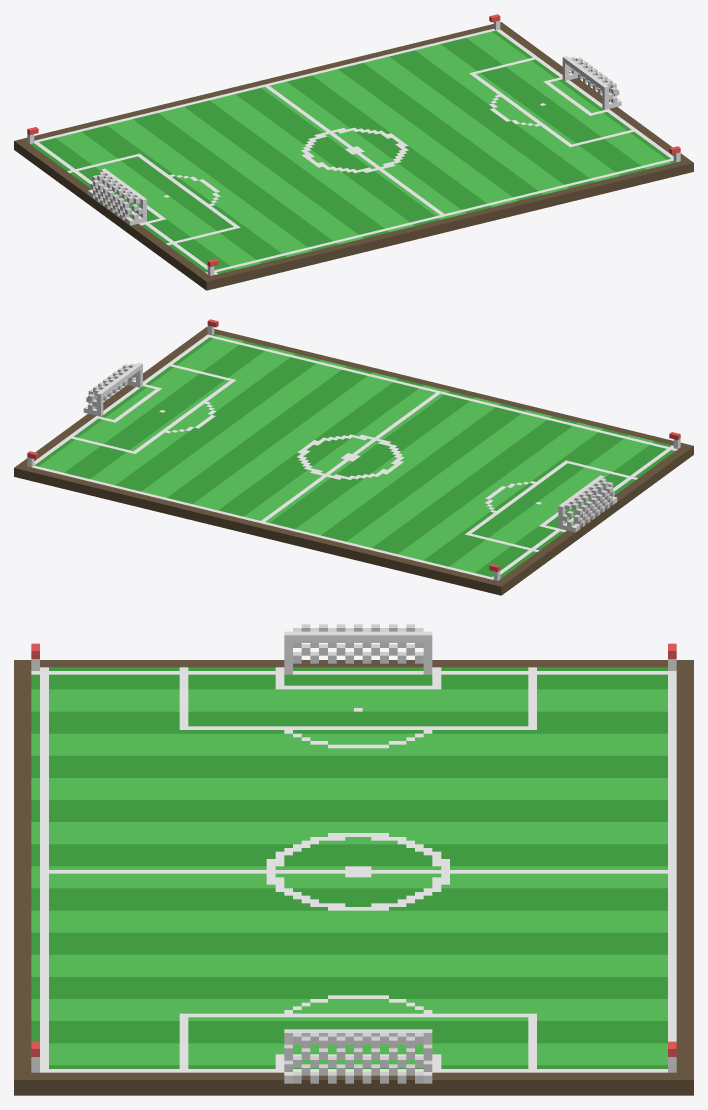
File: canchabase.fbx
The picture shows the model from 3 angles, top to bottom: view 1: azimuth 30°, elevation 25°; view 2: azimuth 150°, elevation 25°; view 3: azimuth 270°, elevation 25°; orthographic projection. The views are drawn at different scales.
Visible parts, largest first — view 1: Voxel_GrassDark, Voxel_GrassLight, Voxel_Border, Voxel_Line, Voxel_Net, Voxel_Goal; view 2: Voxel_GrassLight, Voxel_GrassDark, Voxel_Border, Voxel_Line, Voxel_Net, Voxel_Goal; view 3: Voxel_GrassDark, Voxel_GrassLight, Voxel_Border, Voxel_Line, Voxel_Net, Voxel_Goal.
Boxes of the visible parts, x1,y1,x2,y2 form: Voxel_GrassDark: [30, 30, 675, 273]; Voxel_GrassLight: [56, 31, 671, 269]; Voxel_Border: [14, 22, 693, 290]; Voxel_Line: [34, 28, 673, 274]; Voxel_Net: [90, 56, 619, 223]; Voxel_Goal: [27, 20, 680, 275]; Voxel_GrassLight: [39, 335, 654, 572]; Voxel_GrassDark: [34, 333, 674, 578]; Voxel_Border: [14, 327, 693, 595]; Voxel_Line: [32, 334, 677, 579]; Voxel_Net: [86, 363, 614, 530]; Voxel_Goal: [27, 325, 680, 580]; Voxel_GrassDark: [31, 667, 667, 1068]; Voxel_GrassLight: [31, 689, 667, 1065]; Voxel_Border: [14, 660, 693, 1095]; Voxel_Line: [31, 667, 676, 1072]; Voxel_Net: [284, 624, 432, 1083]; Voxel_Goal: [31, 631, 676, 1083].
Bounding box in the file's own units: 11500 × 700 × 7800.
